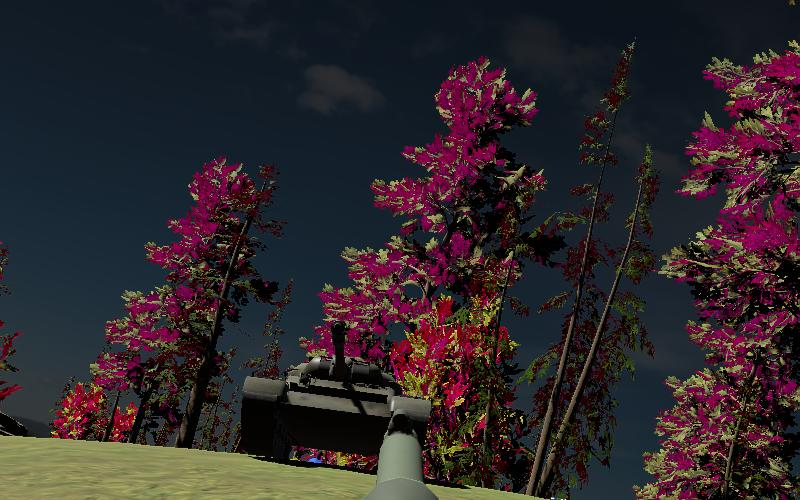Tank: (241, 348, 432, 470)
